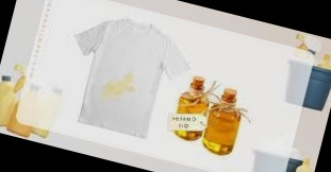oil: (100, 69, 140, 107)
